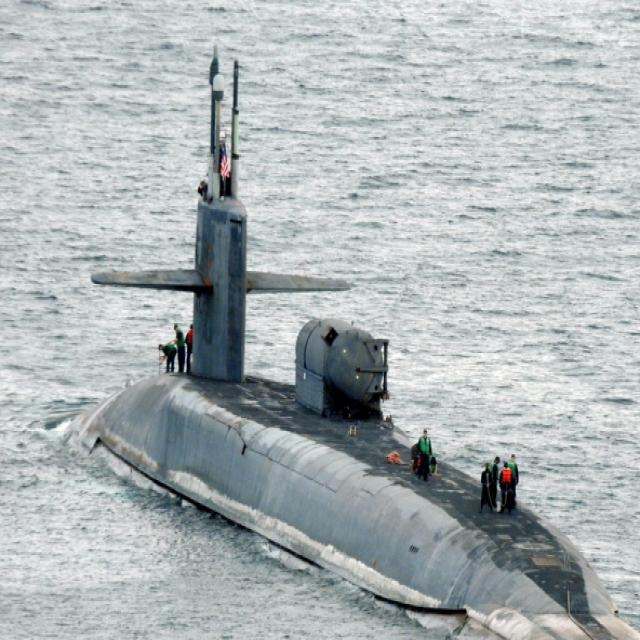submarine: (30, 40, 640, 640)
